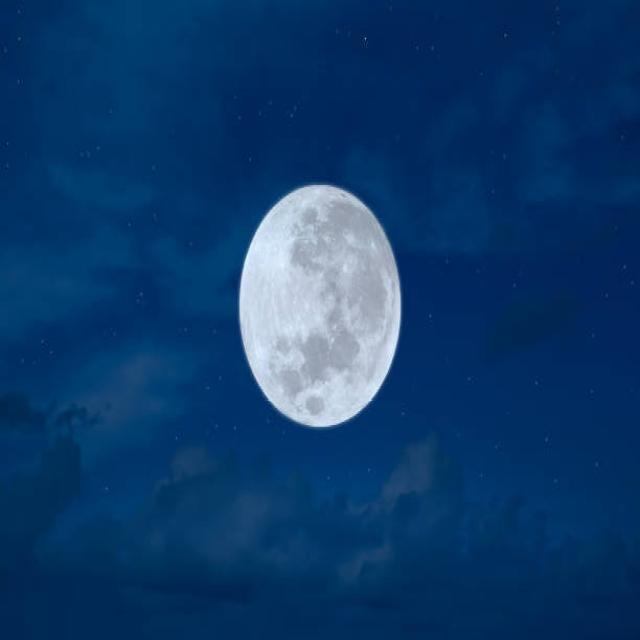moon: (235, 177, 402, 428)
